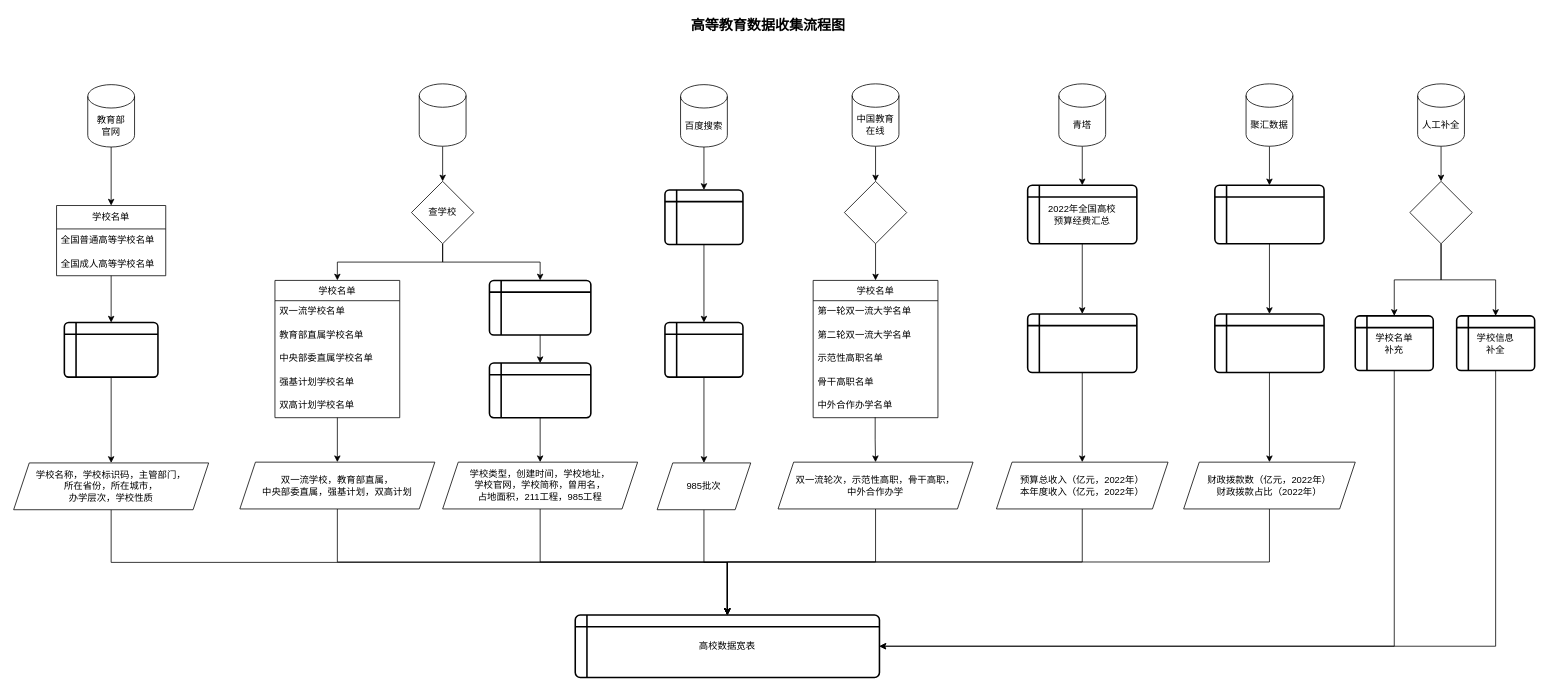
Some shapes in this 1549 by 691 pixel diagram are drawn without their labels. Here are the shapes that lost their labels. From the top down, the box of each, then its label:
(418, 83, 466, 146): 掌上高考
(664, 189, 743, 245): 985 批次信息
(844, 181, 907, 244): 大学信息 查询
(1214, 184, 1324, 244): 2022年中央部署 高校财政拨款统计
(1409, 181, 1472, 244): 人工查询
(488, 279, 591, 335): 学校基本信息
(63, 321, 158, 378): 全国高校名单
(664, 321, 743, 378): 985高校 批次名单
(1026, 313, 1137, 373): 2022年主要高校 预算经费统计表
(1214, 313, 1324, 373): 2022年中央部署高校 财政拨款统计表
(488, 362, 591, 418): 高校基本信息表
